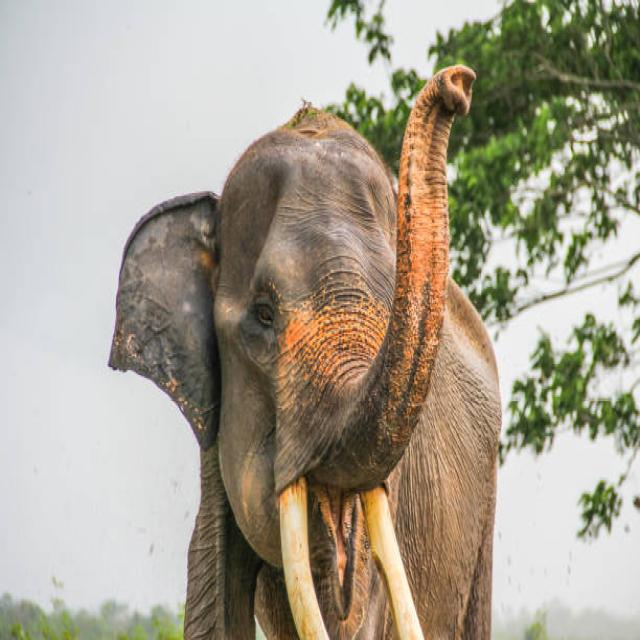Elephant: (109, 56, 514, 640)
